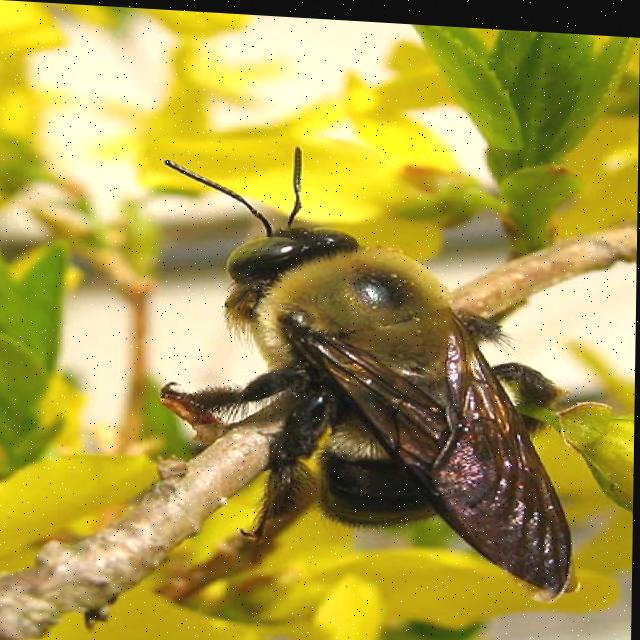Xylocopa: (142, 126, 638, 621)
